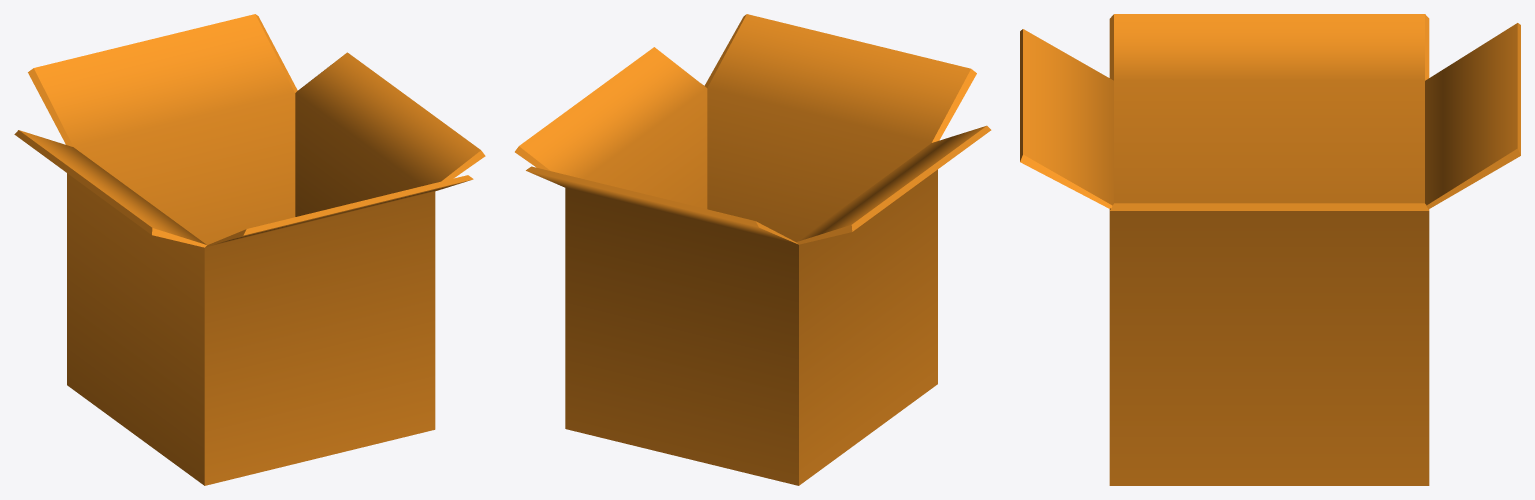
File: KartonKutu2.fbx
3 renders of one model, left to right at view 1: azimuth 30°, elevation 25°; view 2: azimuth 150°, elevation 25°; view 3: azimuth 270°, elevation 25°, orthographic. The views are drawn at different scales.
Visible parts, largest first — view 1: kartonkutu; view 2: kartonkutu; view 3: kartonkutu.
Part boxes in pixels (box(x1,y1,x2,y2)): kartonkutu: box(14, 14, 485, 485); kartonkutu: box(515, 14, 991, 485); kartonkutu: box(1020, 14, 1520, 485).
Size of the model in its own units: 29.82 by 24.61 by 33.35.
